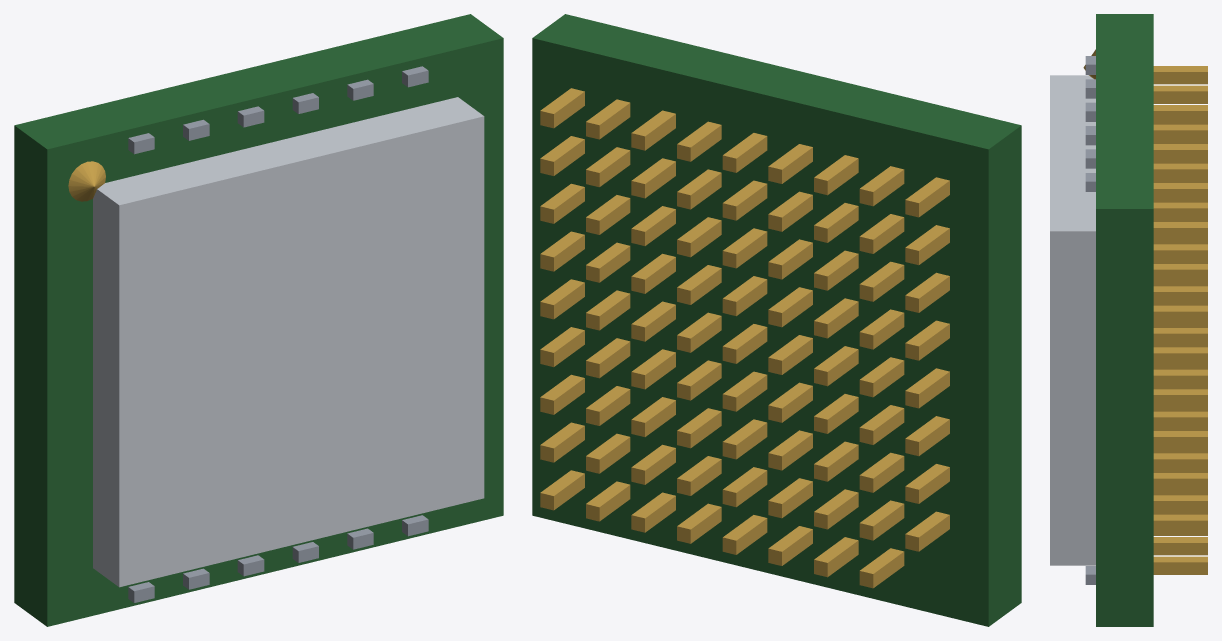
File: cpu_pga.glb
3 views of the same model, side by side, from view 1: azimuth 30°, elevation 25°; view 2: azimuth 150°, elevation 25°; view 3: azimuth 270°, elevation 25° (orthographic). The views are drawn at different scales.
Visible parts, largest first — view 1: cpu_pga; view 2: cpu_pga; view 3: cpu_pga.
Part boxes in pixels (x1,y1,x2,y2): cpu_pga: (14,14,503,626); cpu_pga: (532,14,1021,626); cpu_pga: (1050,14,1207,626).
Bounding box in the file's own units: 0.4 × 0.4 × 0.137.
